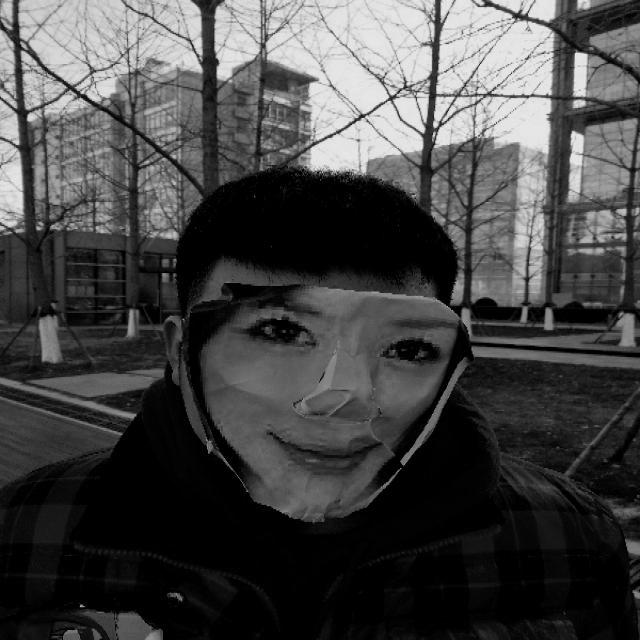fake: (175, 165, 462, 518)
